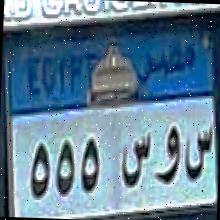5: (77, 131, 104, 197), (28, 132, 52, 204), (52, 134, 76, 199)
seen: (116, 130, 152, 196), (183, 122, 212, 190)
waw: (158, 122, 182, 189)
